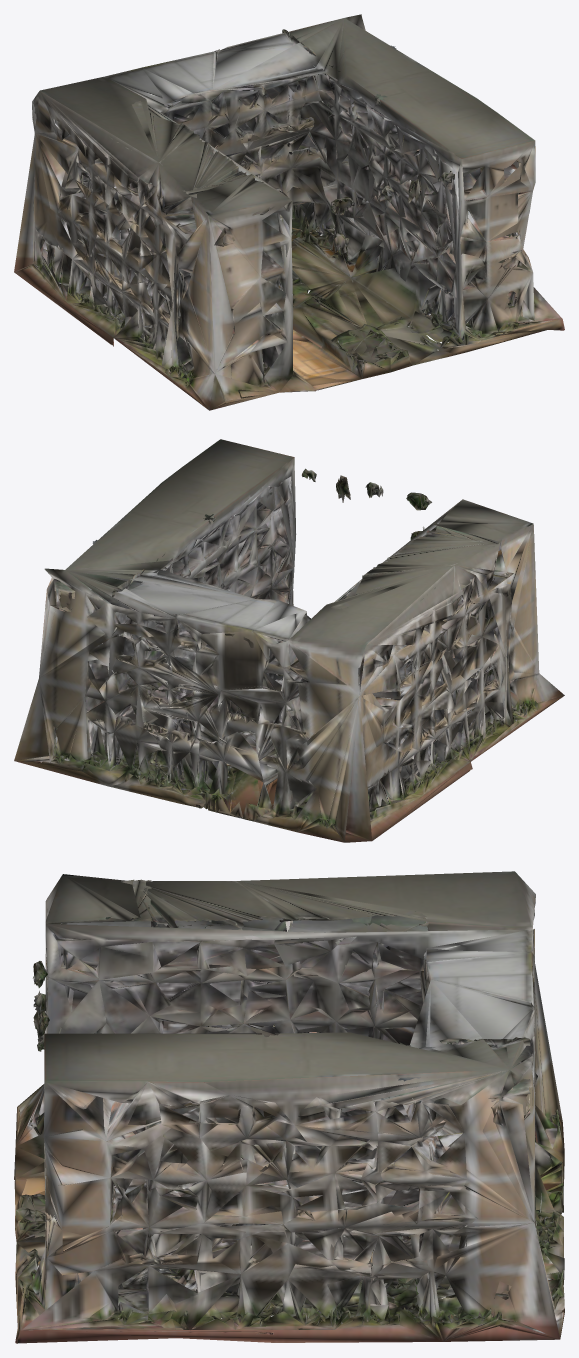
File: CUET_Academic_Building.glb
The picture shows the model from 3 angles, top to bottom: view 1: azimuth 30°, elevation 25°; view 2: azimuth 150°, elevation 25°; view 3: azimuth 270°, elevation 25°; orthographic projection. The views are drawn at different scales.
Bounding box in the file's own units: 2 × 1.02 × 2.
1 material, 1 textured.
